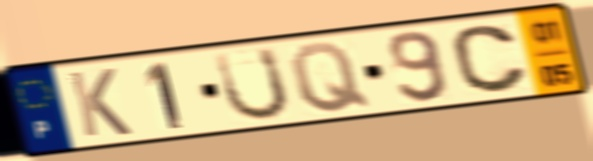1: (143, 60, 185, 131)
9: (385, 29, 450, 105)
C: (448, 22, 531, 96)
K: (64, 66, 136, 140)
Q: (286, 40, 374, 115)
U: (211, 44, 293, 124)
